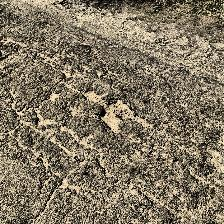pothole: (80, 89, 148, 133)
